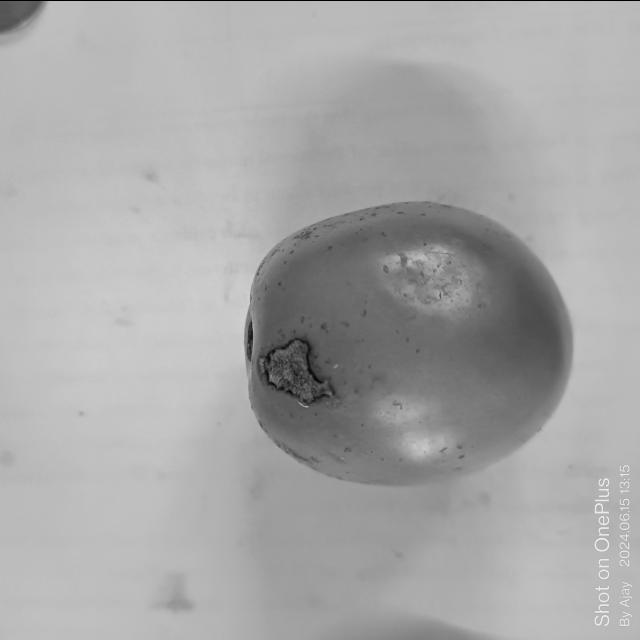Bacterial_Spot: (257, 342, 342, 406)
